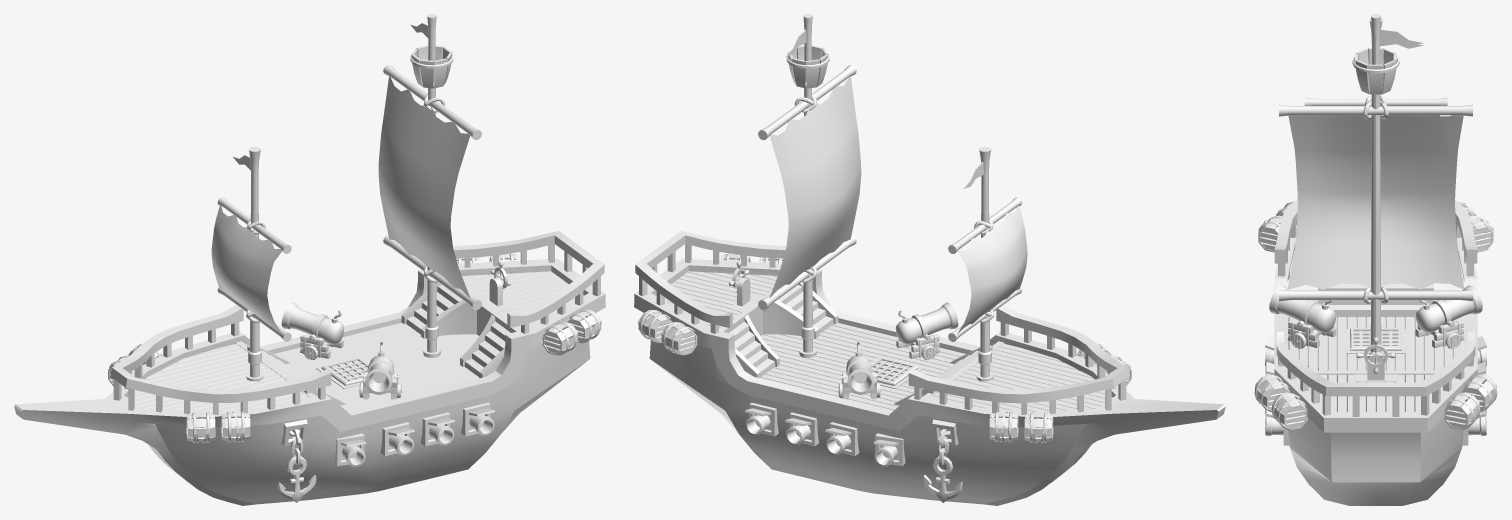
The model's file is ship.obj.
3 renders of one model, left to right at view 1: azimuth 30°, elevation 25°; view 2: azimuth 150°, elevation 25°; view 3: azimuth 270°, elevation 25°, orthographic. The views are drawn at different scales.
Parts seen in each view (by area): view 1: Ship_Large; view 2: Ship_Large; view 3: Ship_Large.
Part boxes in pixels (x1=…): Ship_Large: x1=14, y1=14, x2=605, y2=505; Ship_Large: x1=634, y1=14, x2=1225, y2=505; Ship_Large: x1=1254, y1=14, x2=1497, y2=505.
Size of the model in its own units: 15.43 by 11.48 by 5.3.
Materials: 1 (1 with a texture image).
